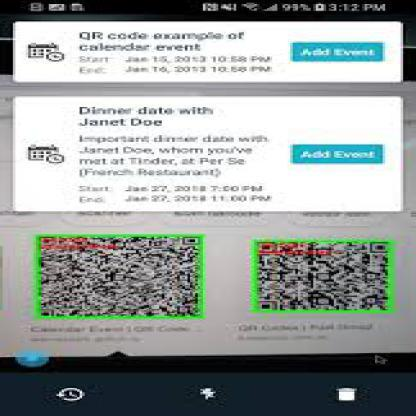qr_code: (38, 237, 200, 318), (259, 242, 388, 311)
